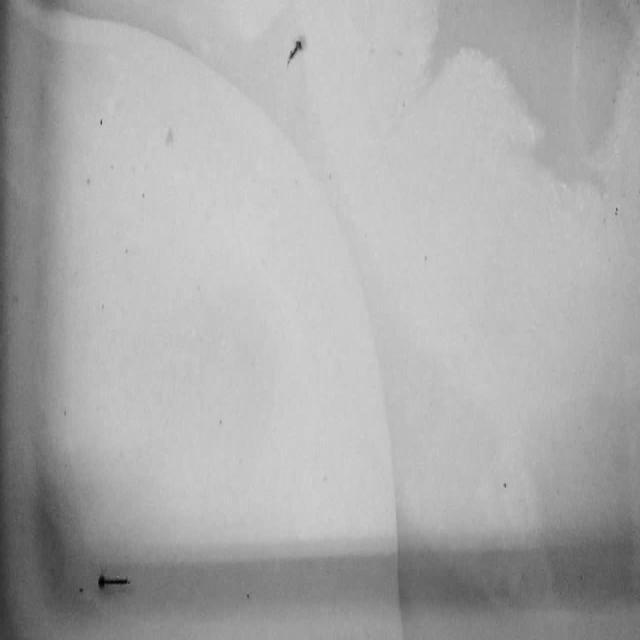larvas: (96, 568, 130, 594), (286, 39, 302, 61)
